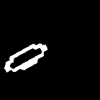chain: (5, 44, 46, 71)
